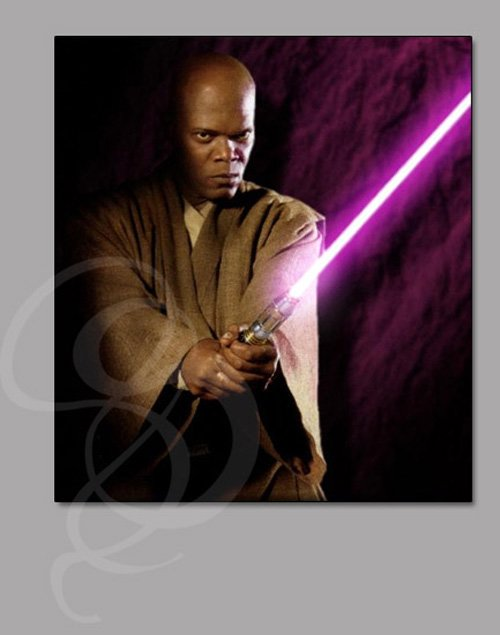lightsaber: (184, 60, 500, 397)
